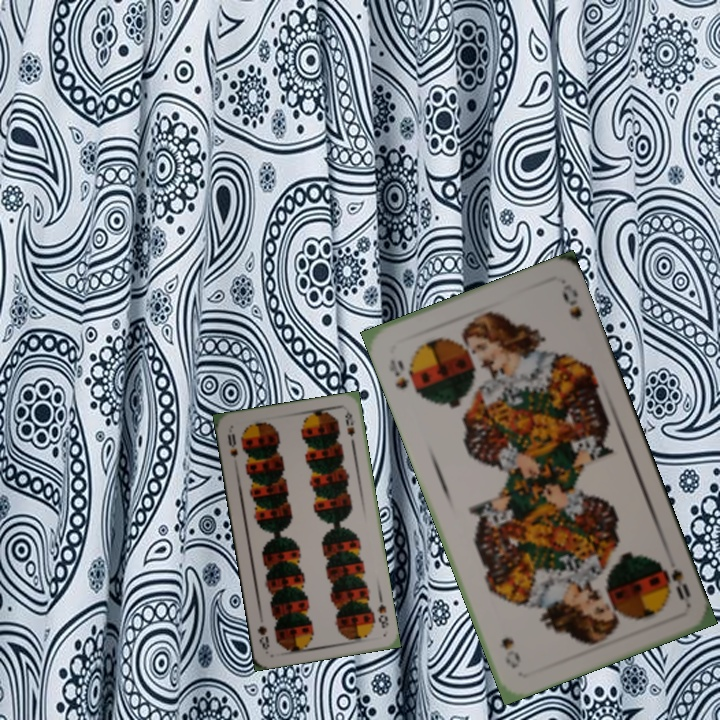S8: (373, 593, 391, 631), (223, 429, 240, 460)
SO: (655, 556, 693, 607), (385, 355, 420, 397)
